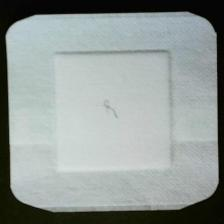Dressing: (5, 12, 222, 215)
F_Body: (89, 94, 130, 124)
